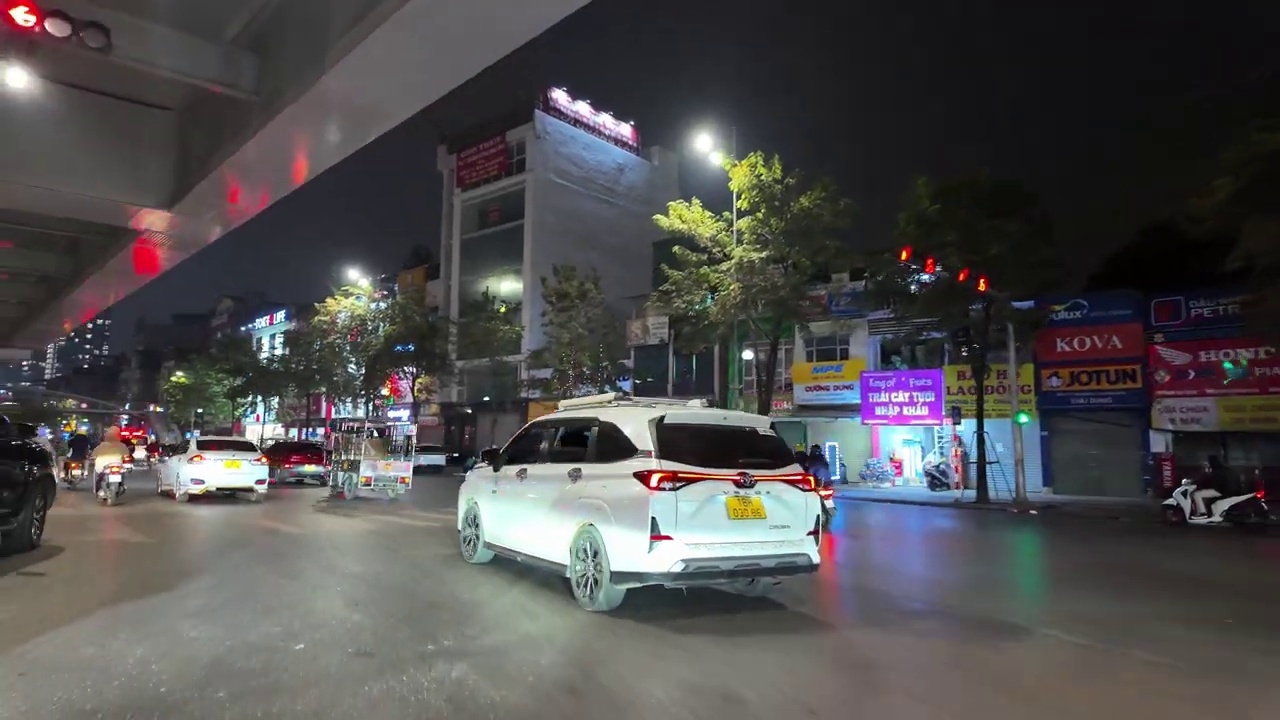acesa: (0, 62, 38, 95), (689, 127, 722, 160), (344, 267, 371, 292)
